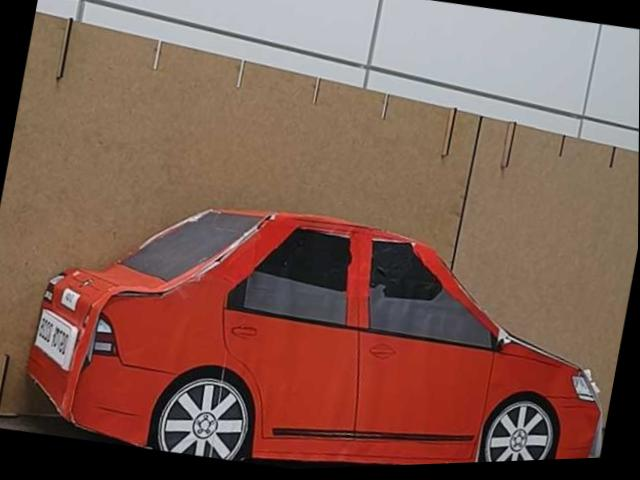car: (14, 168, 629, 479)
id: (29, 310, 84, 374)
